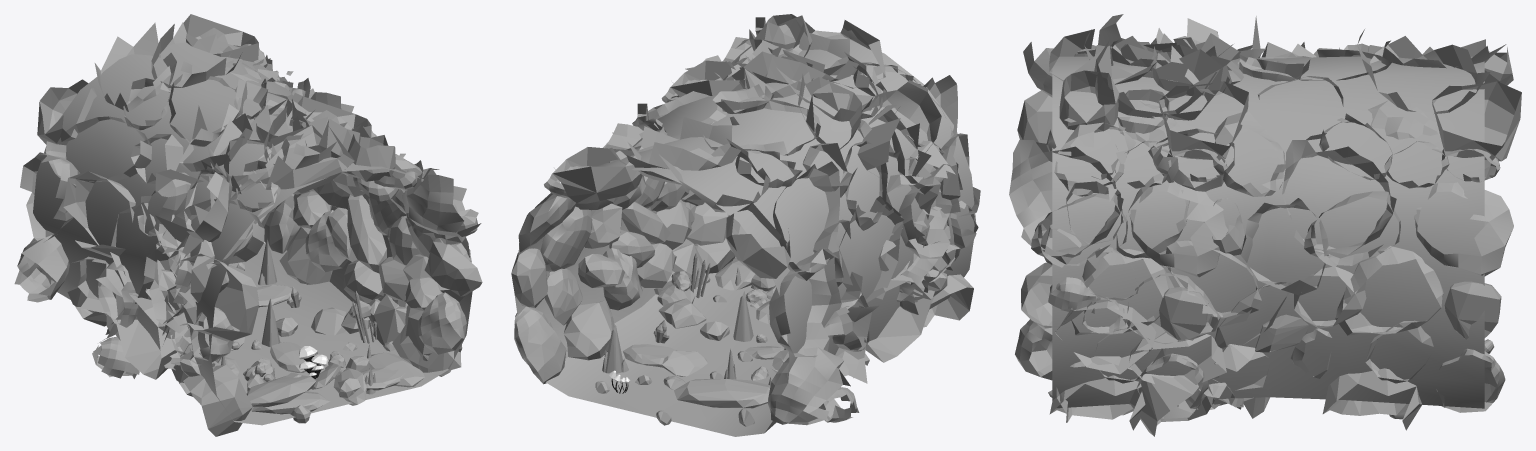
Rendered from Cave4.fbx.
3 views of the same model, side by side, from view 1: azimuth 30°, elevation 25°; view 2: azimuth 150°, elevation 25°; view 3: azimuth 270°, elevation 25° (orthographic). The views are drawn at different scales.
Visible parts, largest first — view 1: Grotta4, cristalli4; view 2: Grotta4, cristalli4; view 3: Grotta4.
Boxes of the visible parts, x1,y1,x2,y2 form: Grotta4: [14, 14, 482, 436]; cristalli4: [215, 287, 376, 378]; Grotta4: [511, 14, 980, 436]; cristalli4: [609, 253, 784, 393]; Grotta4: [1009, 14, 1521, 436].
Bounding box in the file's own units: 13.9 × 12.77 × 16.79.
